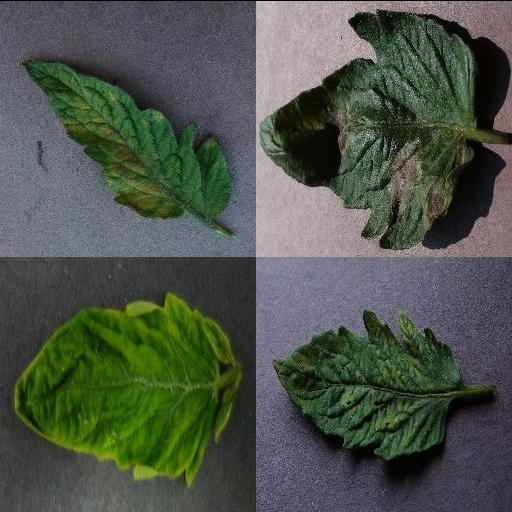Late Blight: (258, 7, 478, 251)
Leaf Mold: (22, 60, 232, 217)
Mosaic Virus: (271, 306, 465, 462)
Yellow Leaf Curl Virus: (12, 290, 238, 485)
